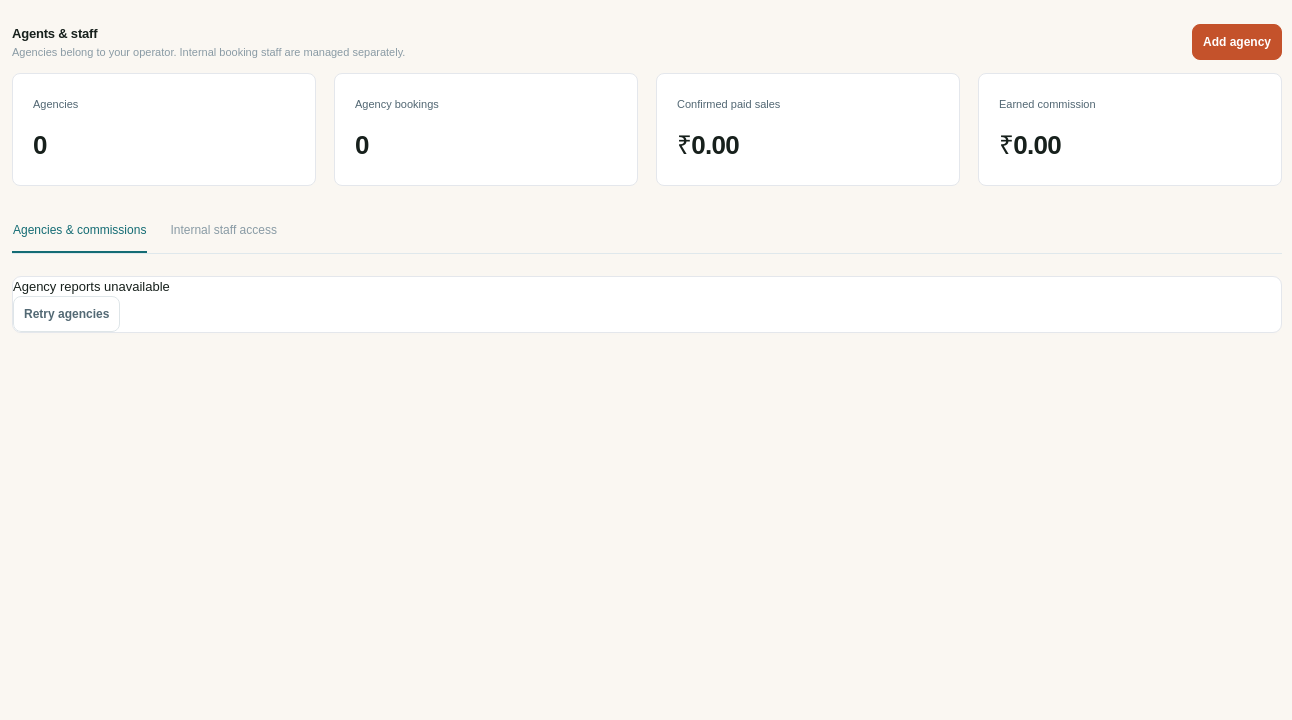
it: shows API failures with retry and never substitutes fabricated agent sales
Expected: the message reads "Agency reports unavailable", [13,278,170,294]
Click the button "Retry agencies" at (67, 314), box [13,296,120,332]
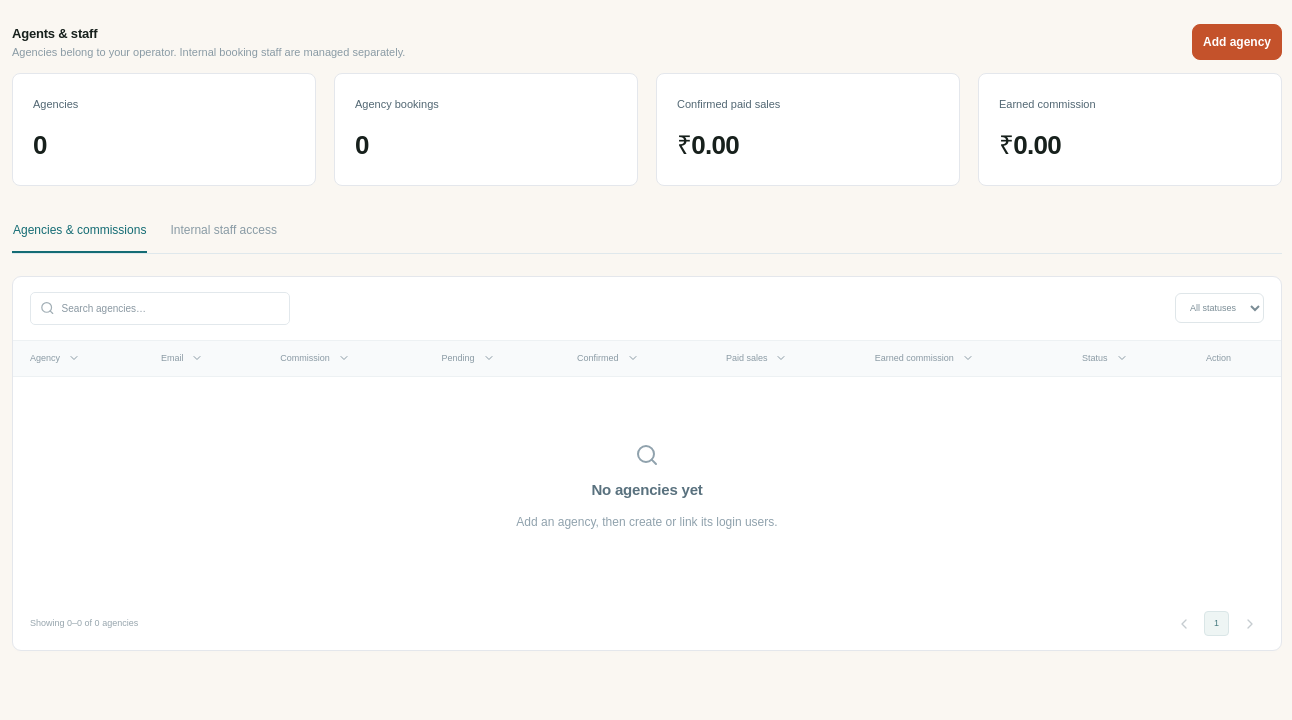
Now the heading "No agencies yet" is shown, box [591,479,703,501]
